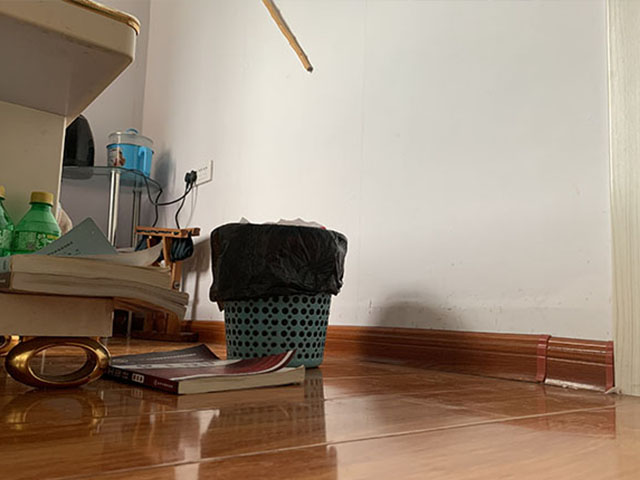book: (106, 343, 308, 396)
trashcan: (207, 215, 349, 369)
